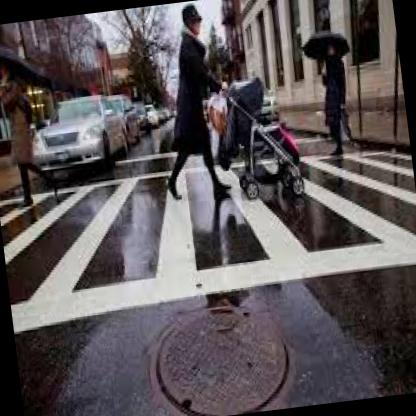manholes: (136, 272, 307, 416)
